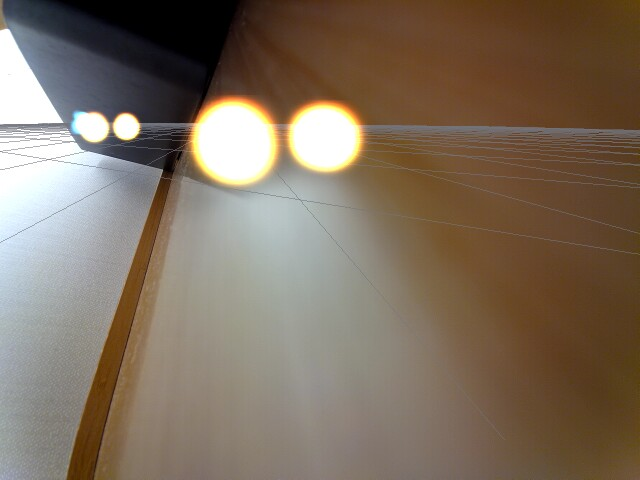firebig: (184, 87, 285, 191)
